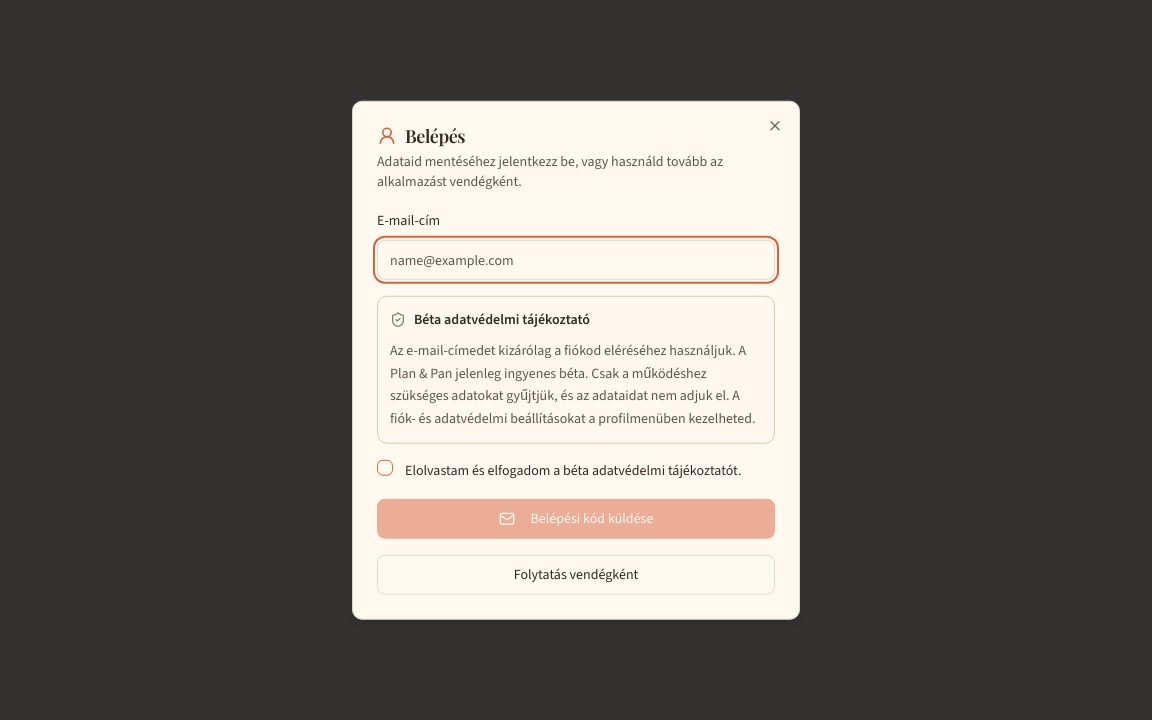
account dialog › keeps only numeric OTP characters and reports a rejected code safely
Type "tester@example.com" into the field labelled "E-mail-cím" at (576, 260), box [377,240,775,280]
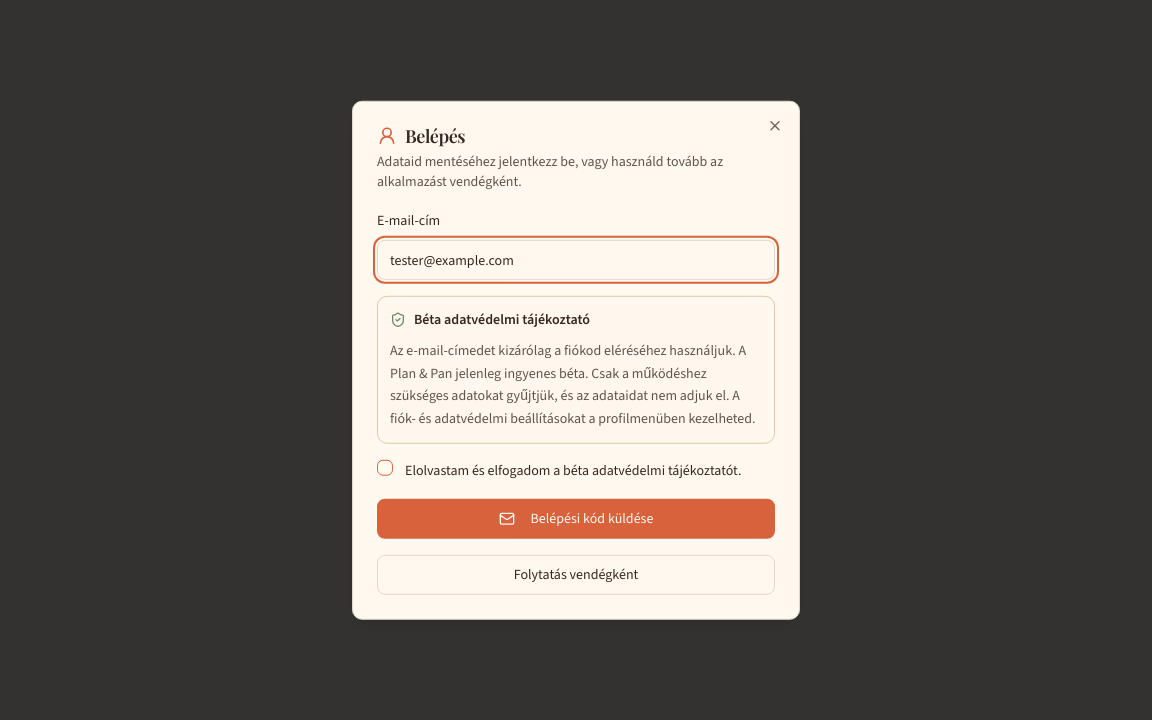
Click the checkbox named "Elolvastam és elfogadom a béta adatvédelmi tájékoztatót." at (385, 468), box [377,460,393,476]
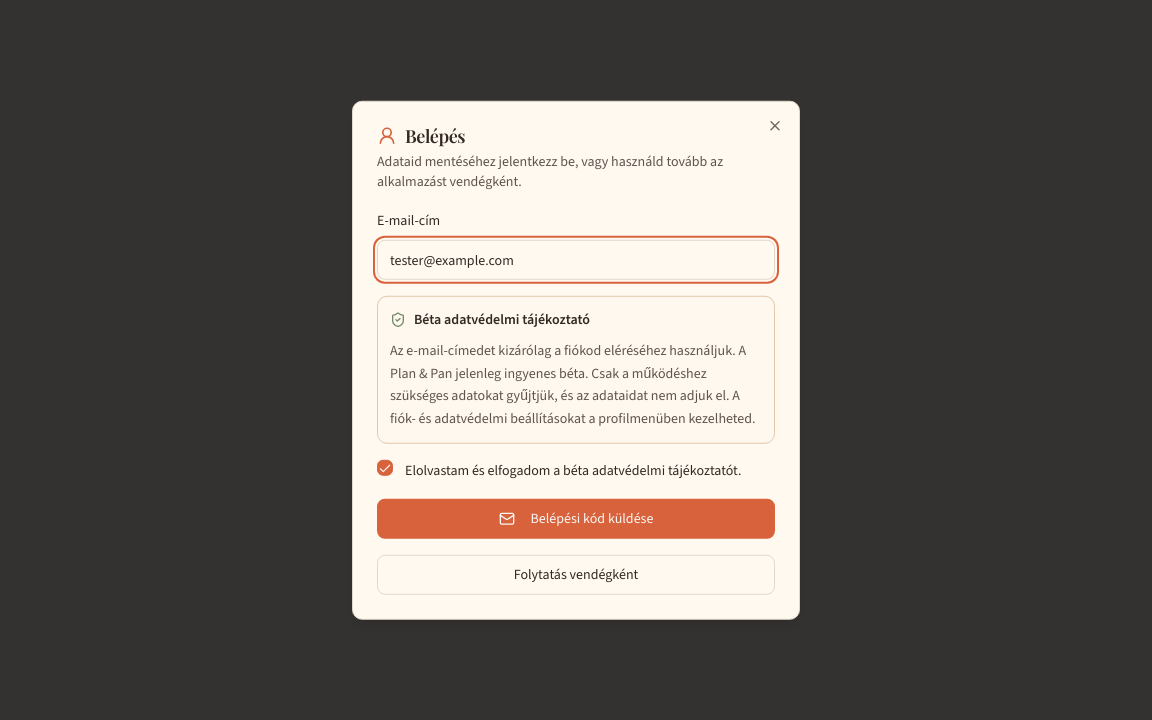
Click the button "Belépési kód küldése" at (576, 518), box [377,498,775,538]
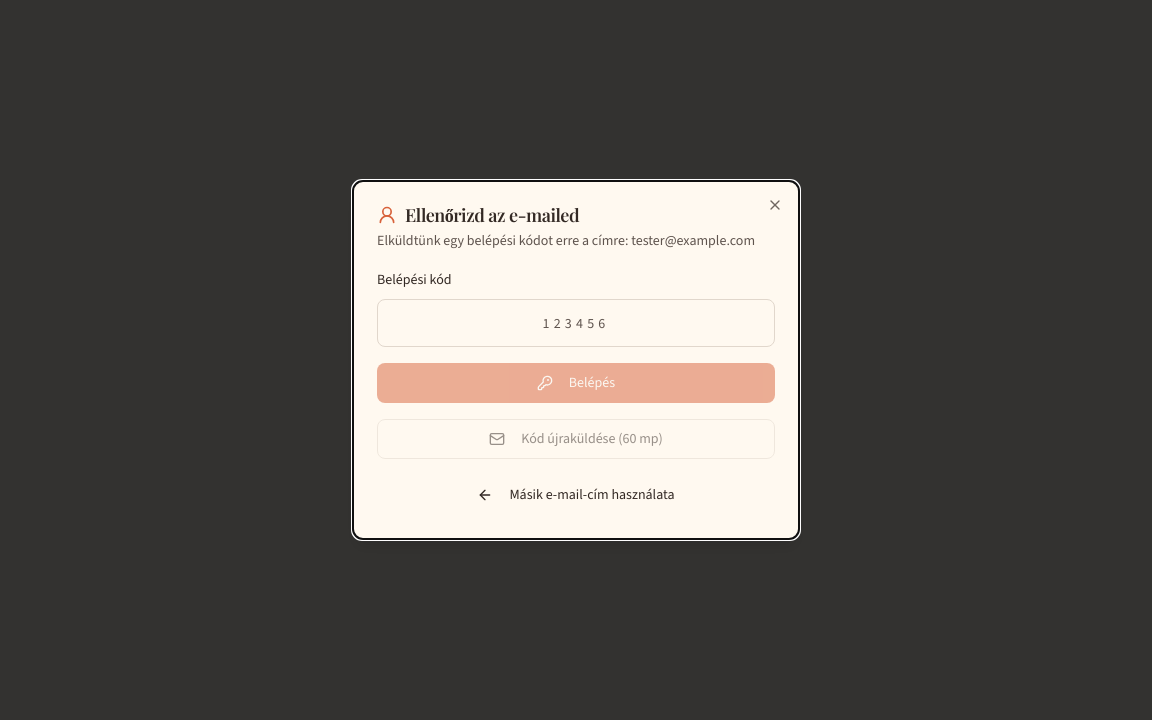
Type "12a34-56" into the field labelled "Belépési kód" at (576, 323), box [377,299,775,347]
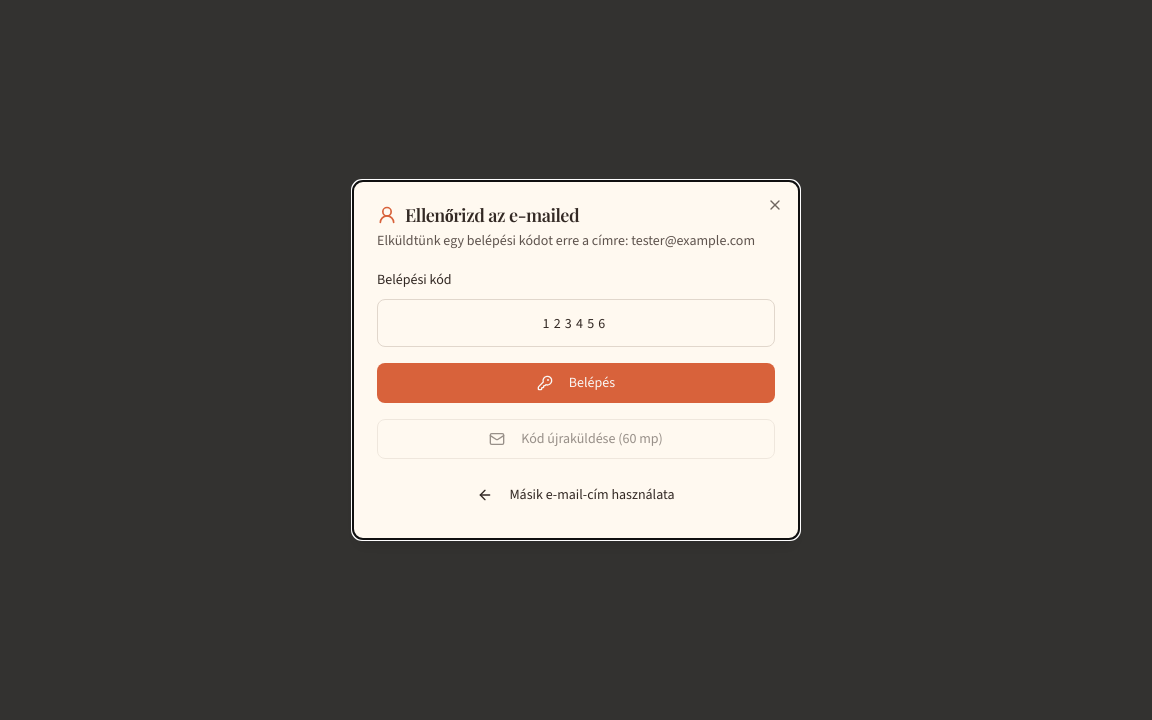
Now the field labelled "Belépési kód" holds "123456", box [377,299,775,347]
Click the button "Belépés" at (576, 383), box [377,363,775,403]
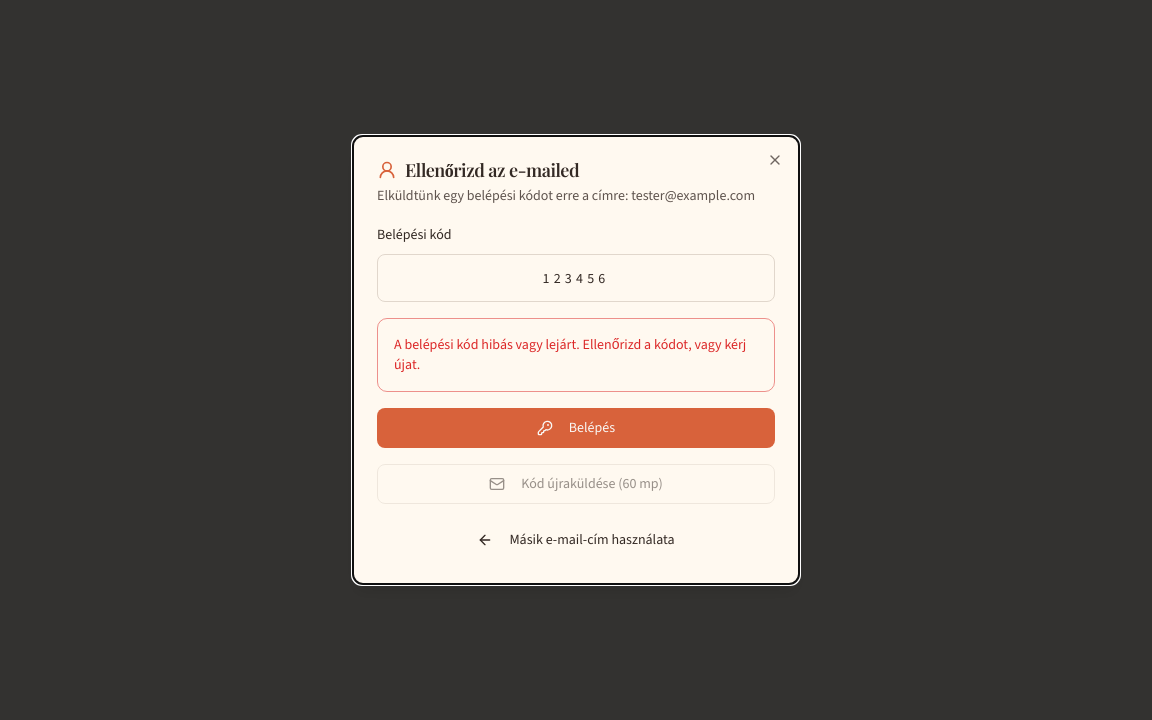
Now the text "A belépési kód hibás vagy lejárt" is shown, box [394,335,746,374]
